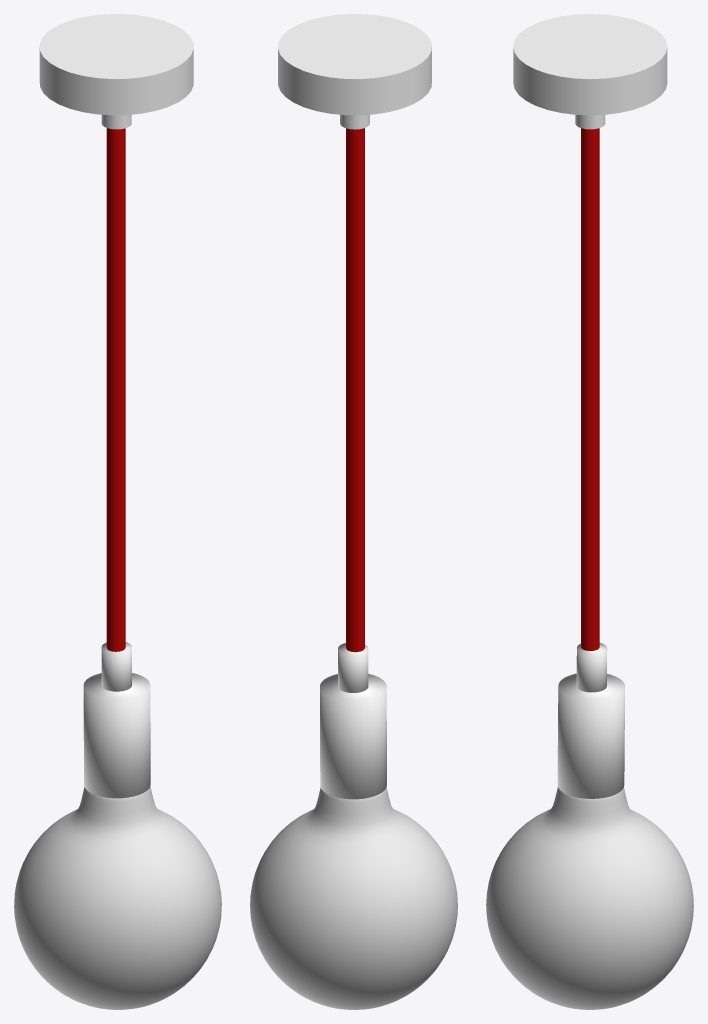
File: lamp2.fbx
3 renders of one model, left to right at view 1: azimuth 30°, elevation 25°; view 2: azimuth 150°, elevation 25°; view 3: azimuth 270°, elevation 25°, orthographic.
Visible parts, largest first — view 1: Sphere.001, Cylinder.001, NurbsPath.001, Cylinder.002; view 2: Sphere.001, Cylinder.001, NurbsPath.001, Cylinder.002; view 3: Sphere.001, Cylinder.001, NurbsPath.001, Cylinder.002.
Part boxes in pixels (box(x1,y1,x2,y2)): Sphere.001: box(14, 786, 221, 1009); Cylinder.001: box(39, 14, 193, 129); NurbsPath.001: box(106, 128, 125, 651); Cylinder.002: box(83, 642, 150, 798); Sphere.001: box(250, 787, 457, 1009); Cylinder.001: box(278, 14, 431, 129); NurbsPath.001: box(346, 128, 364, 652); Cylinder.002: box(320, 643, 386, 799); Sphere.001: box(486, 787, 693, 1009); Cylinder.001: box(513, 14, 667, 129); NurbsPath.001: box(581, 128, 599, 650); Cylinder.002: box(557, 642, 625, 798).
Bounding box in the file's own units: 98.98 × 501 × 98.97.
